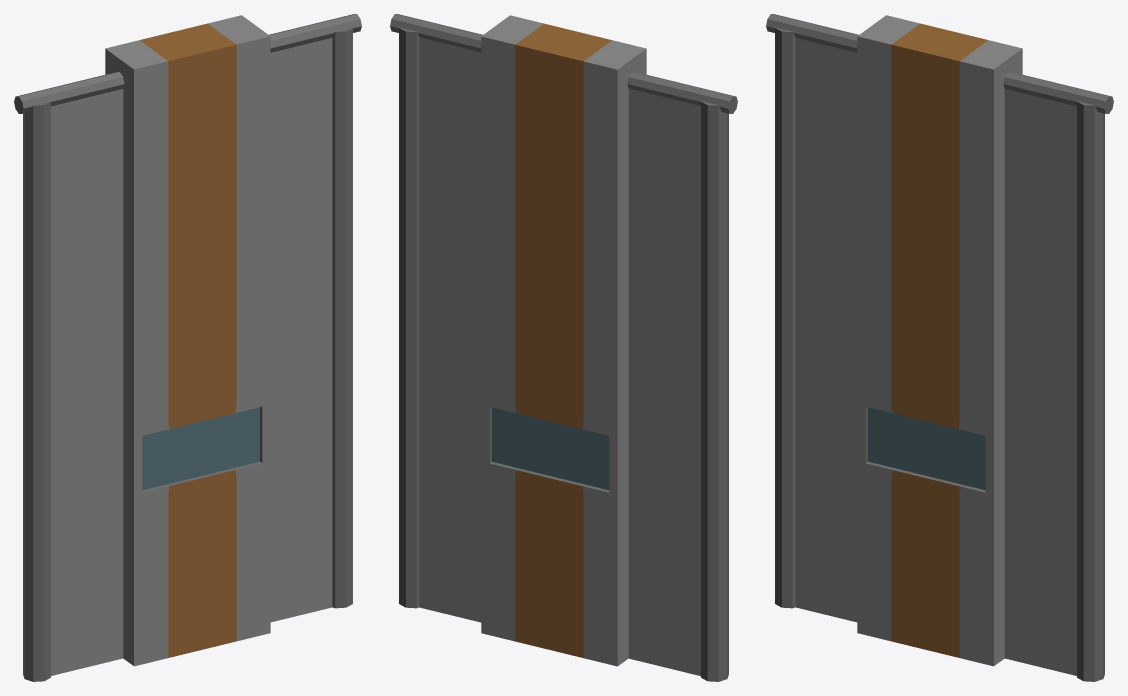
The model's file is Door.glb.
3 renders of one model, left to right at view 1: azimuth 30°, elevation 25°; view 2: azimuth 150°, elevation 25°; view 3: azimuth 330°, elevation 25°, orthographic.
Visible parts, largest first — view 1: Door; view 2: Door; view 3: Door.
Part boxes in pixels (left/top/right/bottom): Door: left=14, top=14, right=361, bottom=681; Door: left=390, top=14, right=737, bottom=681; Door: left=766, top=14, right=1113, bottom=681.
Size of the model in its own units: 0.6896 by 1.16 by 0.1021.
